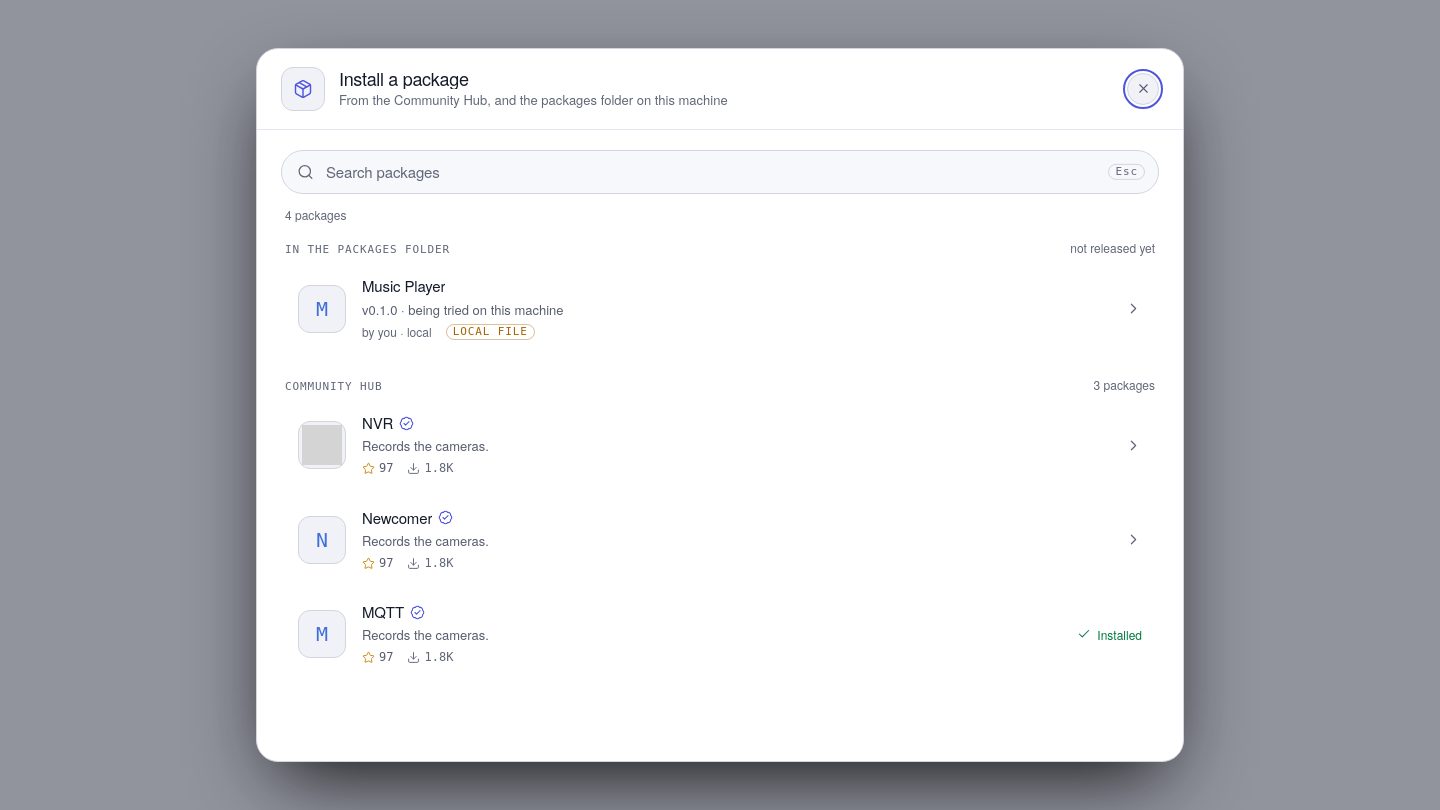
InstallPackagesDialog › says why a package cannot be installed, and does not offer to
Click the button "NVR Records the cameras. 97 1.8K" at x=322, y=445, box [281,398,1159,493]
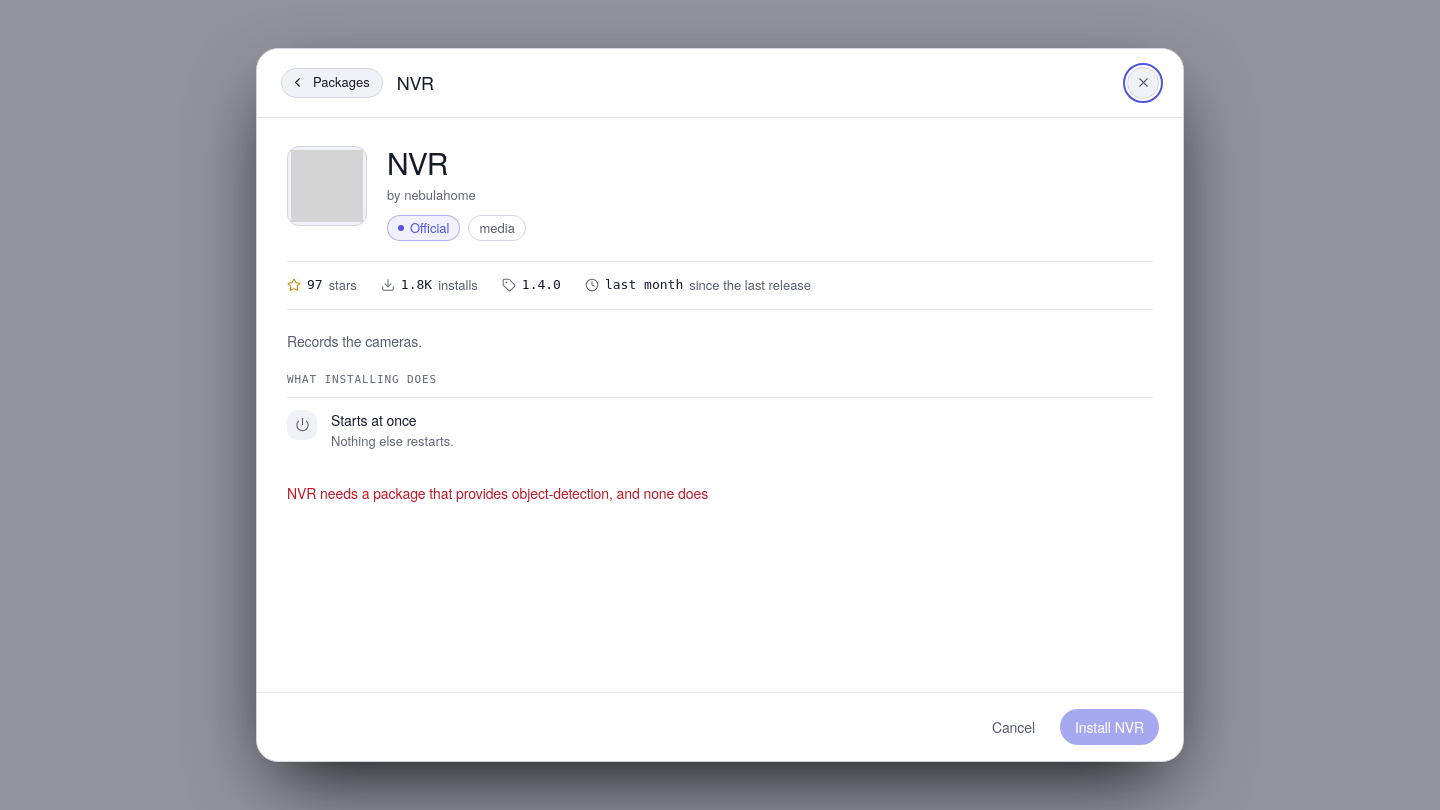
Expected: the list item "NVR needs a package that provides object-detection, and none does" is shown, [287,483,708,503]
Expected: the button "Install NVR" is disabled, [1060,709,1159,745]
Click the button "Packages" at x=332, y=83, box [281,68,383,98]
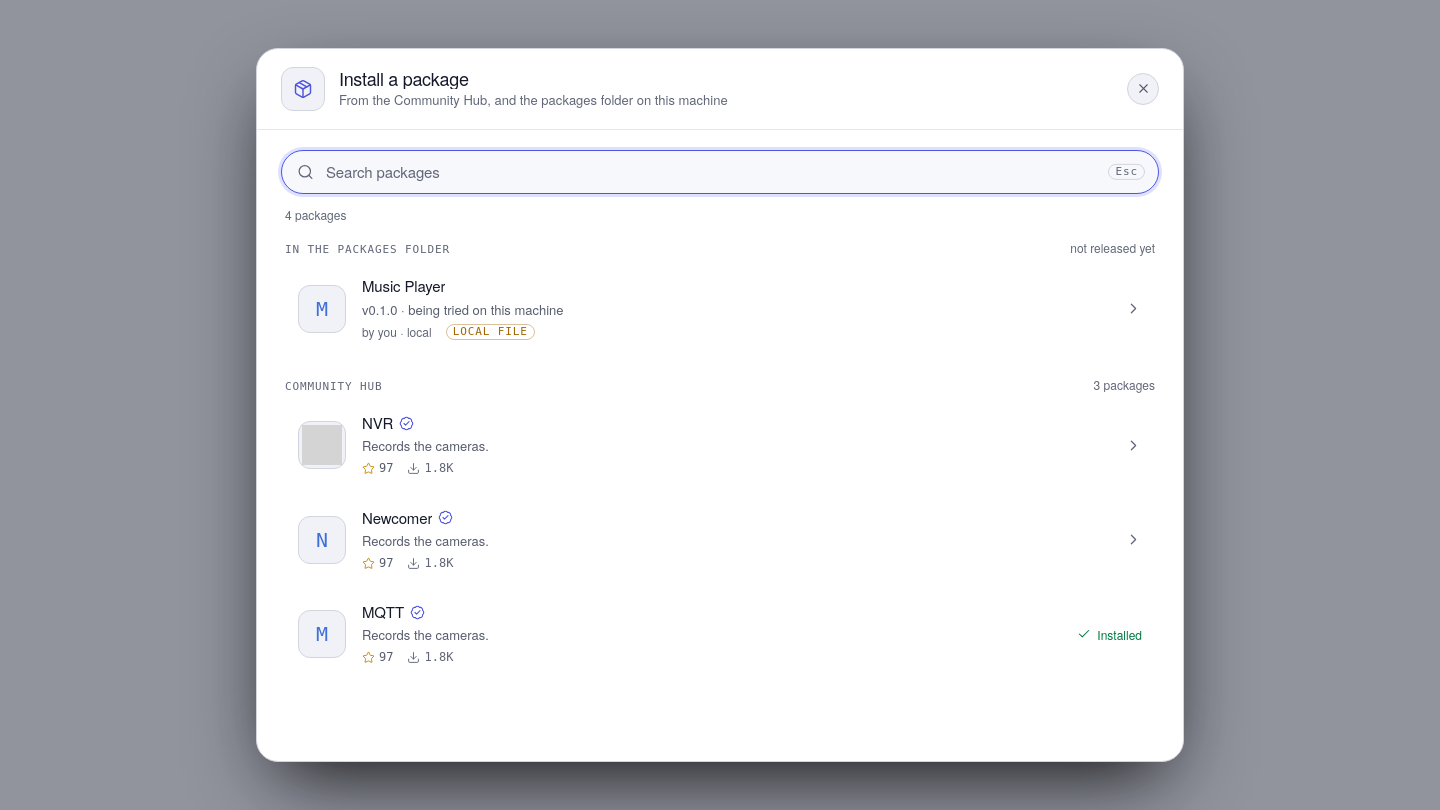
Click the button "N Newcomer Records the cameras. 97 1.8K" at x=322, y=540, box [281,492,1159,587]
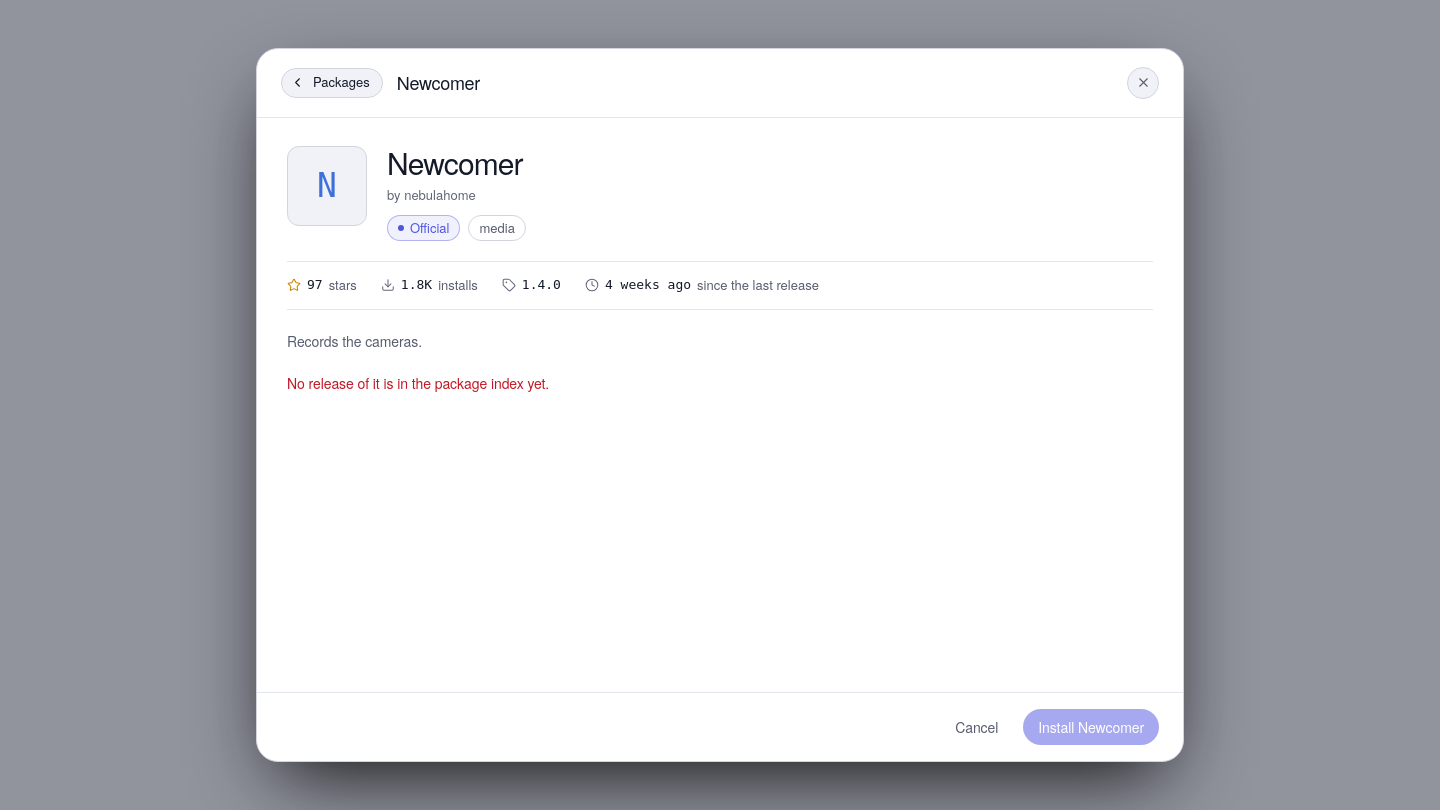
Expected: the text "No release of it is in the package index yet." is shown, [287,372,549,392]
Expected: the button "Install Newcomer" is disabled, [1023,709,1159,745]
